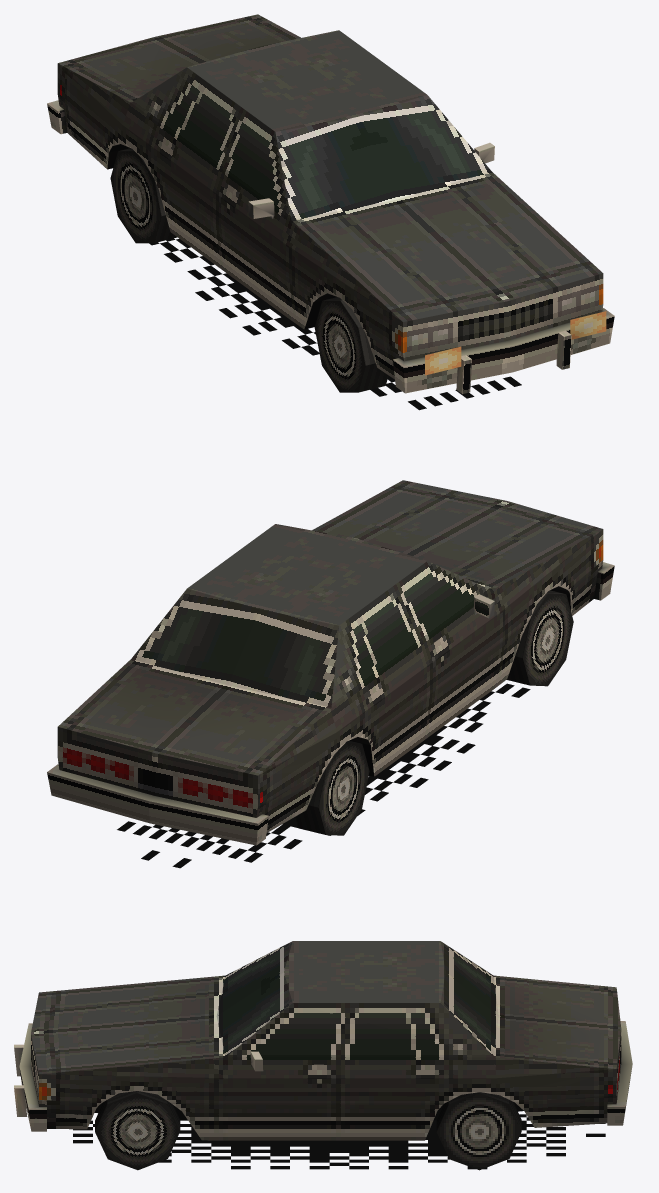
The model's file is muscle_grey.glb.
3 views of the same model, one above another, from view 1: azimuth 30°, elevation 25°; view 2: azimuth 150°, elevation 25°; view 3: azimuth 270°, elevation 25° (orthographic). The views are drawn at different scales.
Parts seen in each view (by area): view 1: Body, BlobShadow, Headlight_-1, Headlight_1; view 2: Body, BlobShadow; view 3: Body, BlobShadow.
Part boxes in pixels (left/top/right/bottom): Body: left=47, top=14, right=614, bottom=393; BlobShadow: left=149, top=238, right=521, bottom=410; Headlight_-1: left=425, top=346, right=461, bottom=375; Headlight_1: left=570, top=311, right=606, bottom=339; Body: left=47, top=480, right=614, bottom=845; BlobShadow: left=117, top=683, right=530, bottom=868; Body: left=14, top=941, right=632, bottom=1170; BlobShadow: left=73, top=1114, right=605, bottom=1169.
Size of what is drawn, in the model's own units: 2.1 by 1.47 by 5.41.
3 materials, 3 textured.
